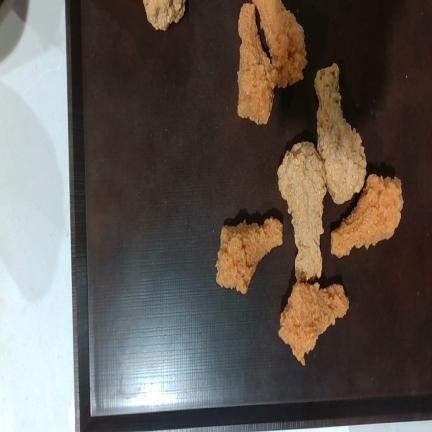chicken: (314, 64, 366, 204), (278, 142, 327, 281), (331, 174, 403, 257), (278, 283, 349, 365), (216, 217, 282, 294), (252, 0, 307, 88), (237, 4, 276, 124)
